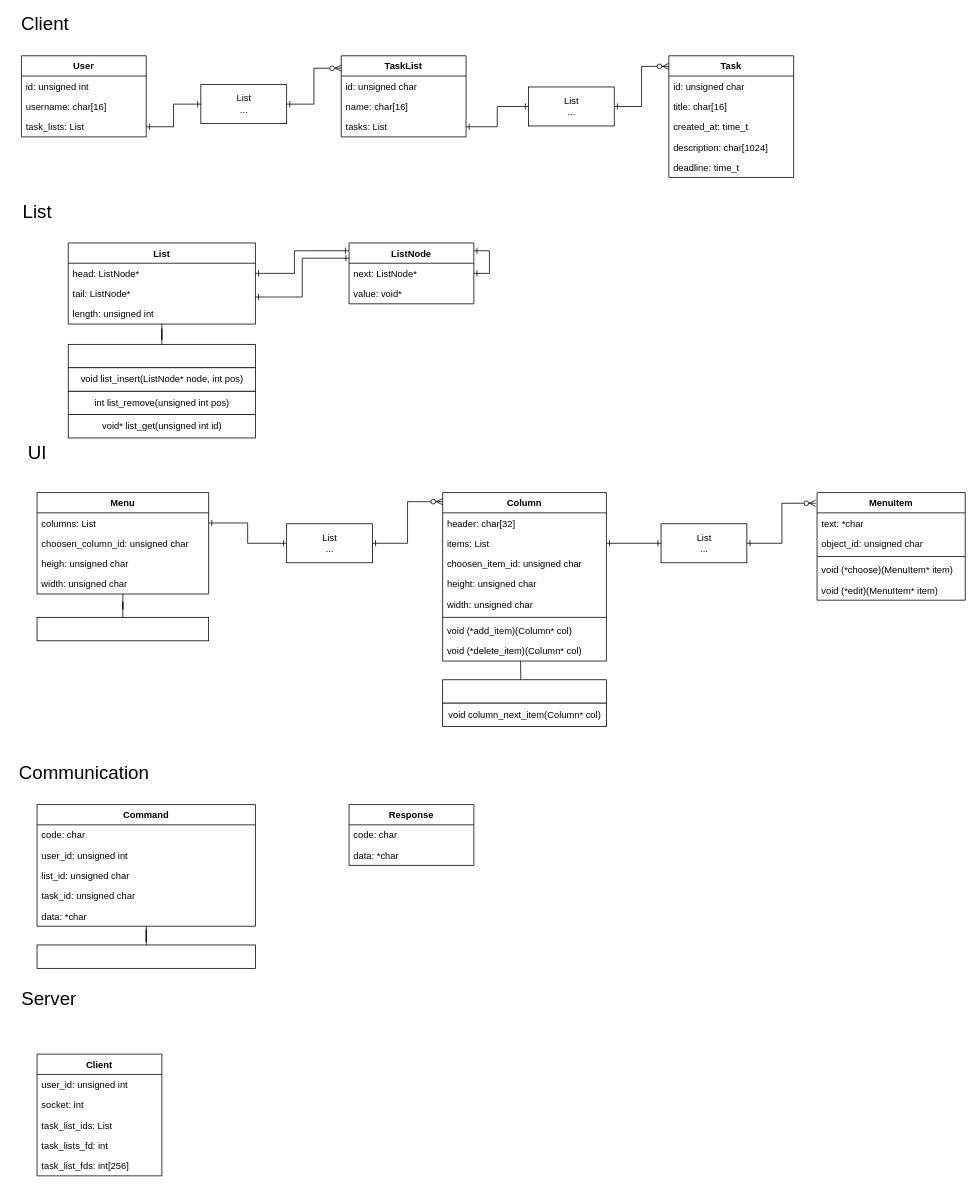
The diagram is 979 pixels wide and 1192 high, and some of its shapes have lost their labels. The centre of each missing label's shape, as x and y in pixels:
Response* process_command(Command* com): point (145, 956)
void column_prev_item(Column* col): point (524, 691)
void list_append(ListNode* node): point (161, 356)
void menu_next_column(Menu* menu): point (122, 629)
